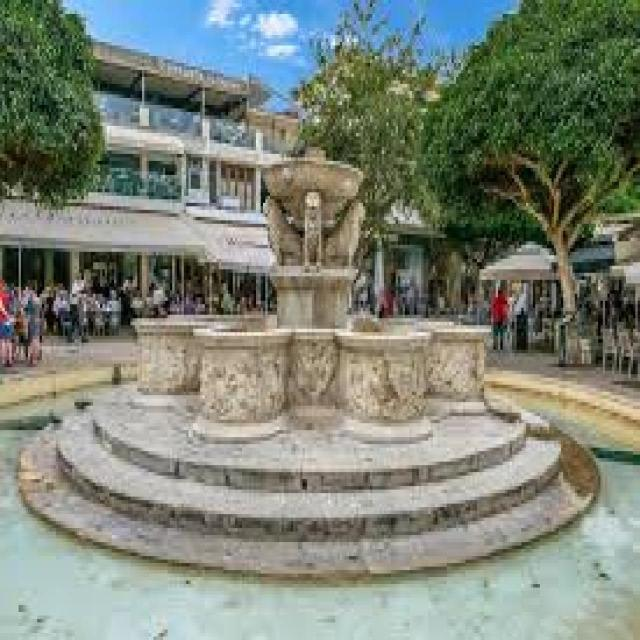Liontaria: (124, 163, 492, 449)
